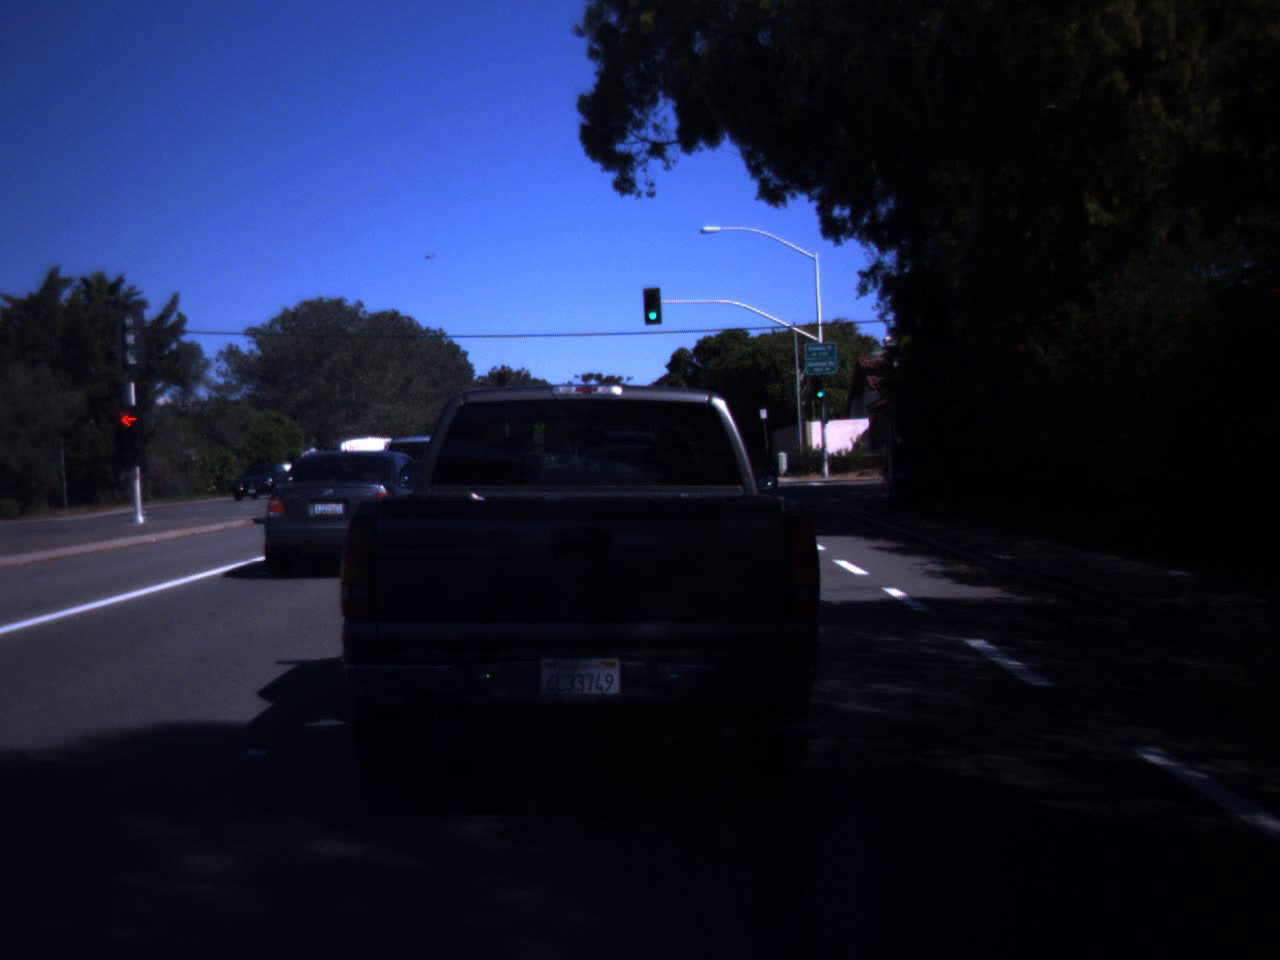go: (644, 292, 662, 322), (814, 378, 826, 398)
stop: (103, 404, 154, 471)
